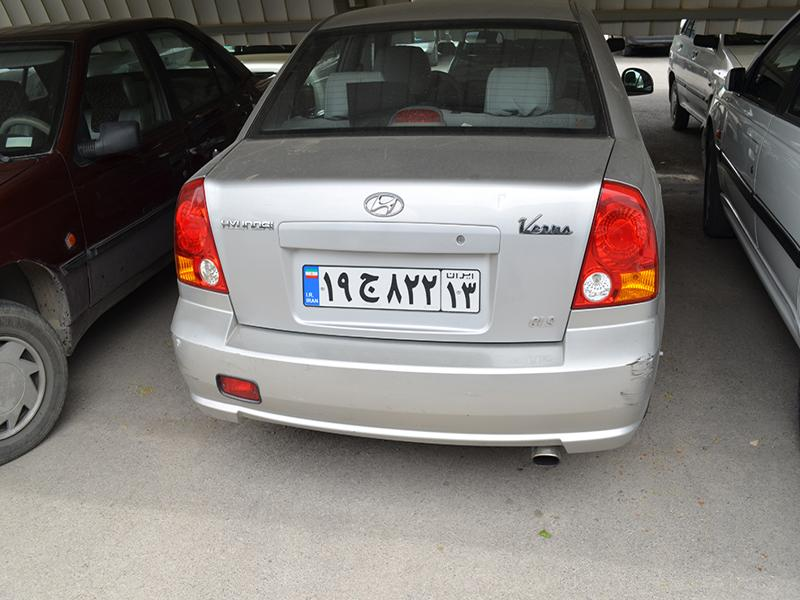Plate: (287, 258, 486, 325)
